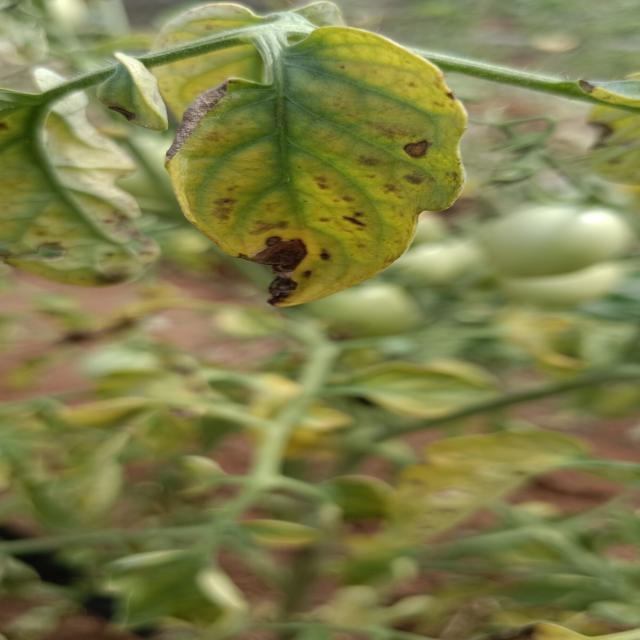tomato_early blight: (164, 25, 464, 306), (0, 68, 157, 286), (349, 426, 576, 552)
